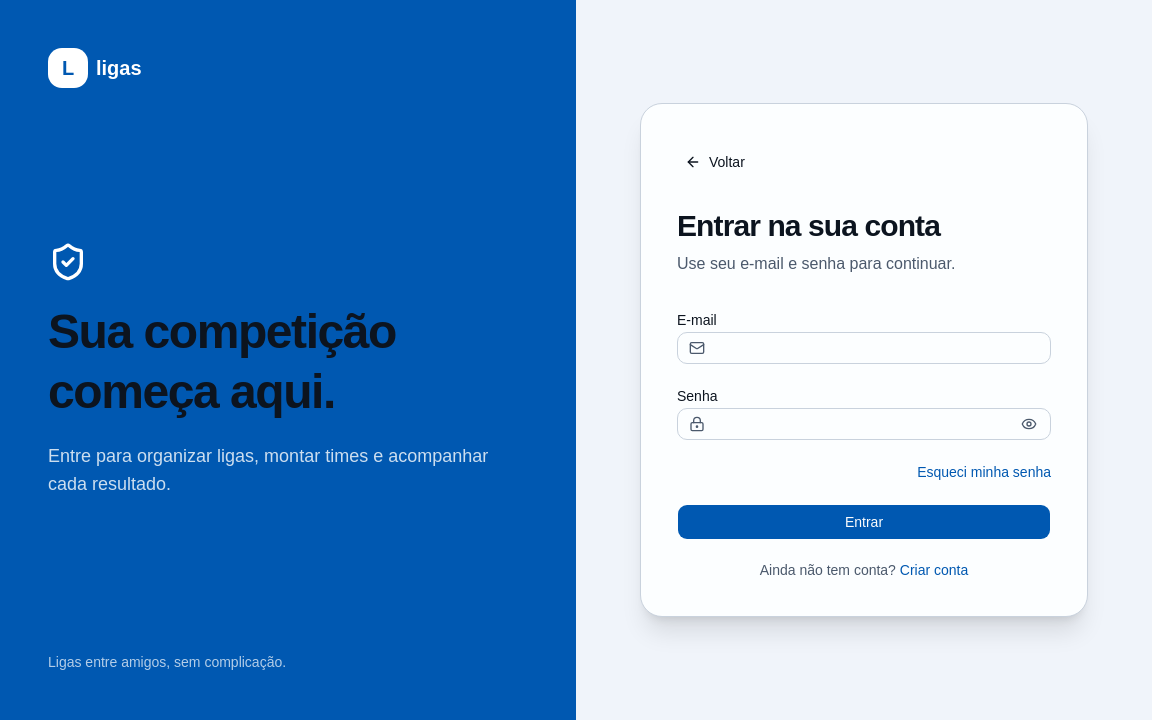
Test case: authentication pages › never redirects login to an external returnTo
This screenshot has width=1152, height=720.
In the field labelled "E-mail": (864, 348) [677,332,1051,364], type "player@test.local"
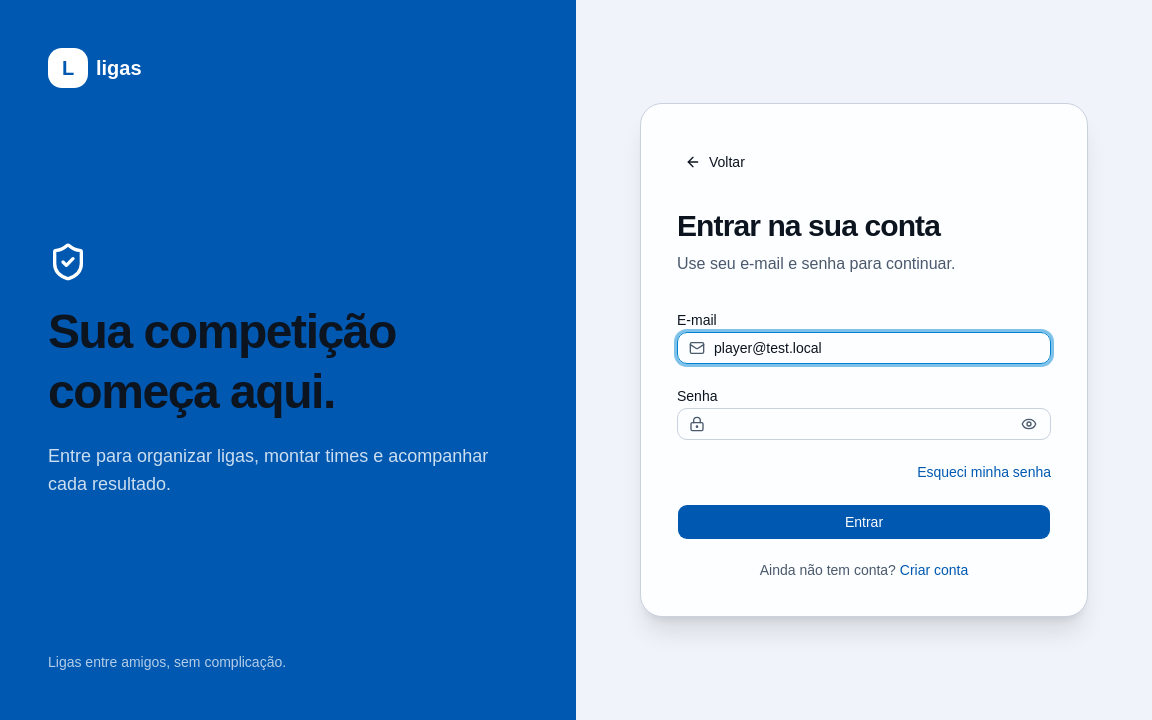
In the password field labelled "Senha": (864, 424) [677,408,1051,440], type "safe-password"
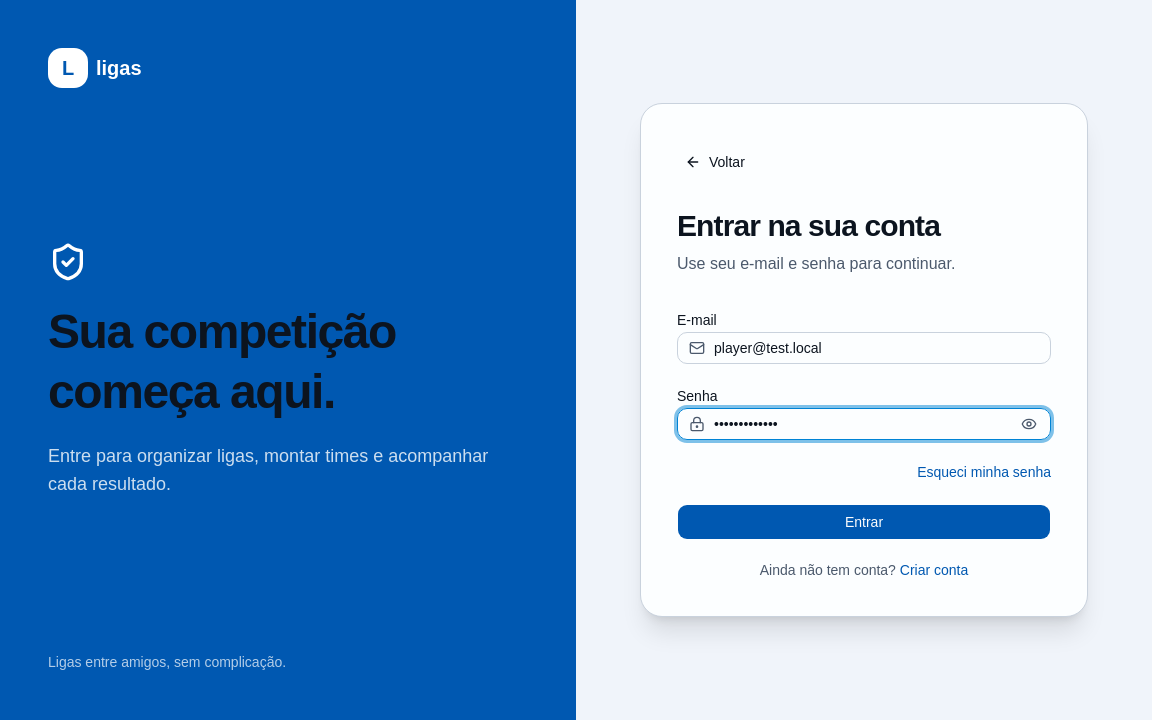
Click the button "Entrar": (864, 522) [677,504,1051,540]
(page scrolled)
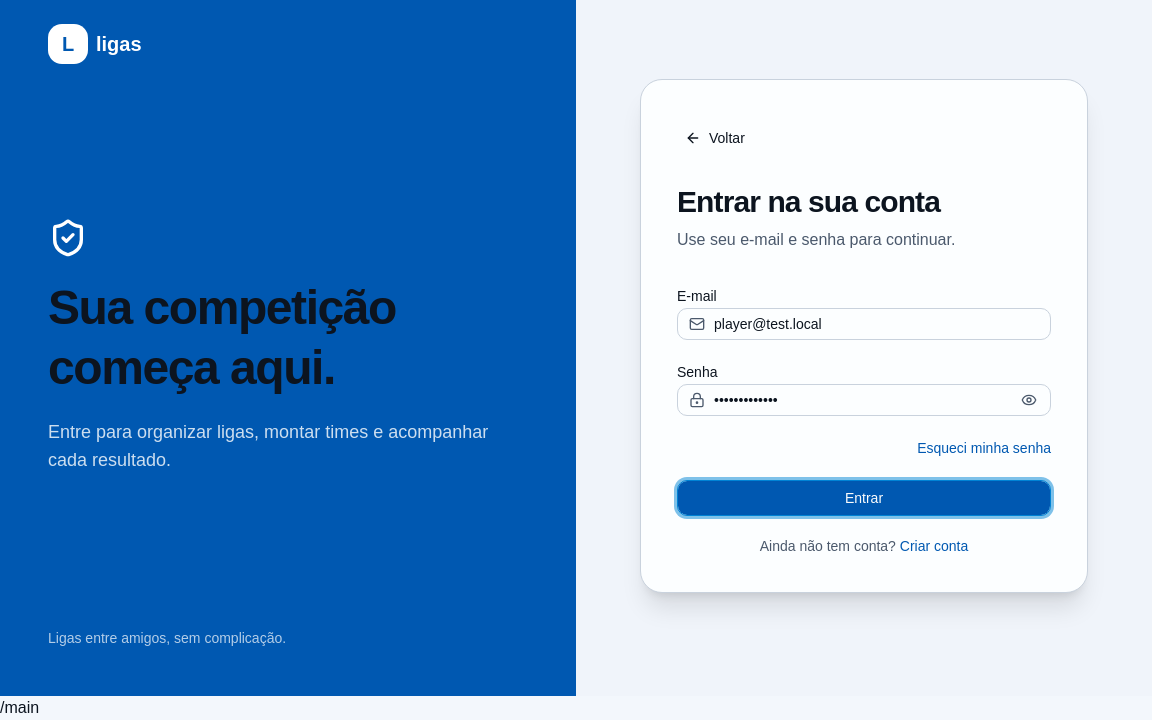
Expected: the text named "location" reads "/main", [0,699,39,716]
